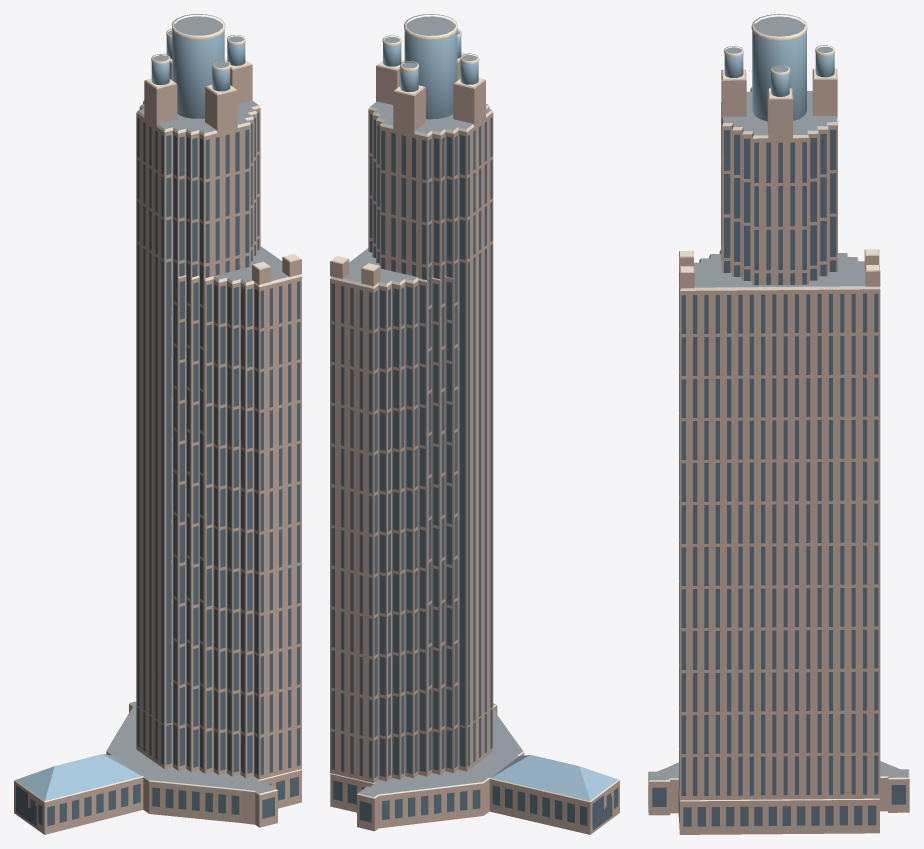
File: detail.glb
The picture shows the model from 3 angles, left to right: view 1: azimuth 30°, elevation 25°; view 2: azimuth 150°, elevation 25°; view 3: azimuth 270°, elevation 25°; orthographic projection. The views are drawn at different scales.
Visible parts, largest first — view 1: 311-south-wacker-drive; view 2: 311-south-wacker-drive; view 3: 311-south-wacker-drive.
Boxes of the visible parts, box(x1,y1,x2,y2) form: 311-south-wacker-drive: box(14, 14, 301, 834); 311-south-wacker-drive: box(330, 14, 619, 834); 311-south-wacker-drive: box(648, 14, 909, 834).
Size of the model in its own units: 92.17 by 293 by 88.89.
